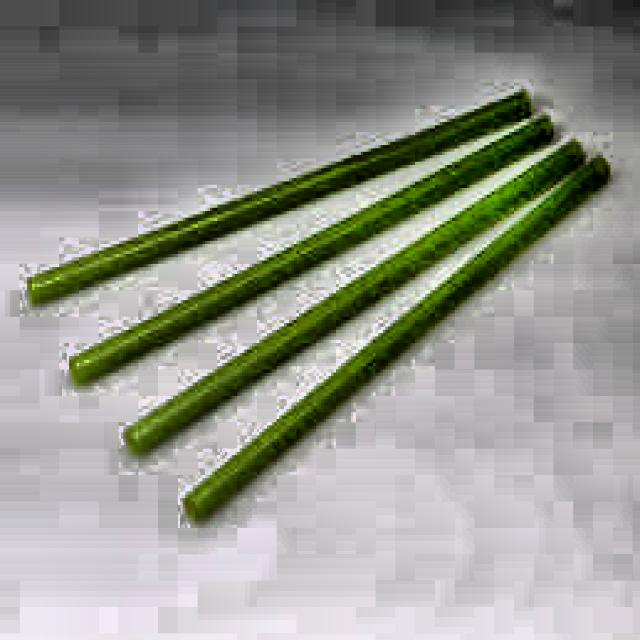plastic straw: (29, 90, 552, 385), (188, 159, 609, 518), (125, 149, 581, 453)
